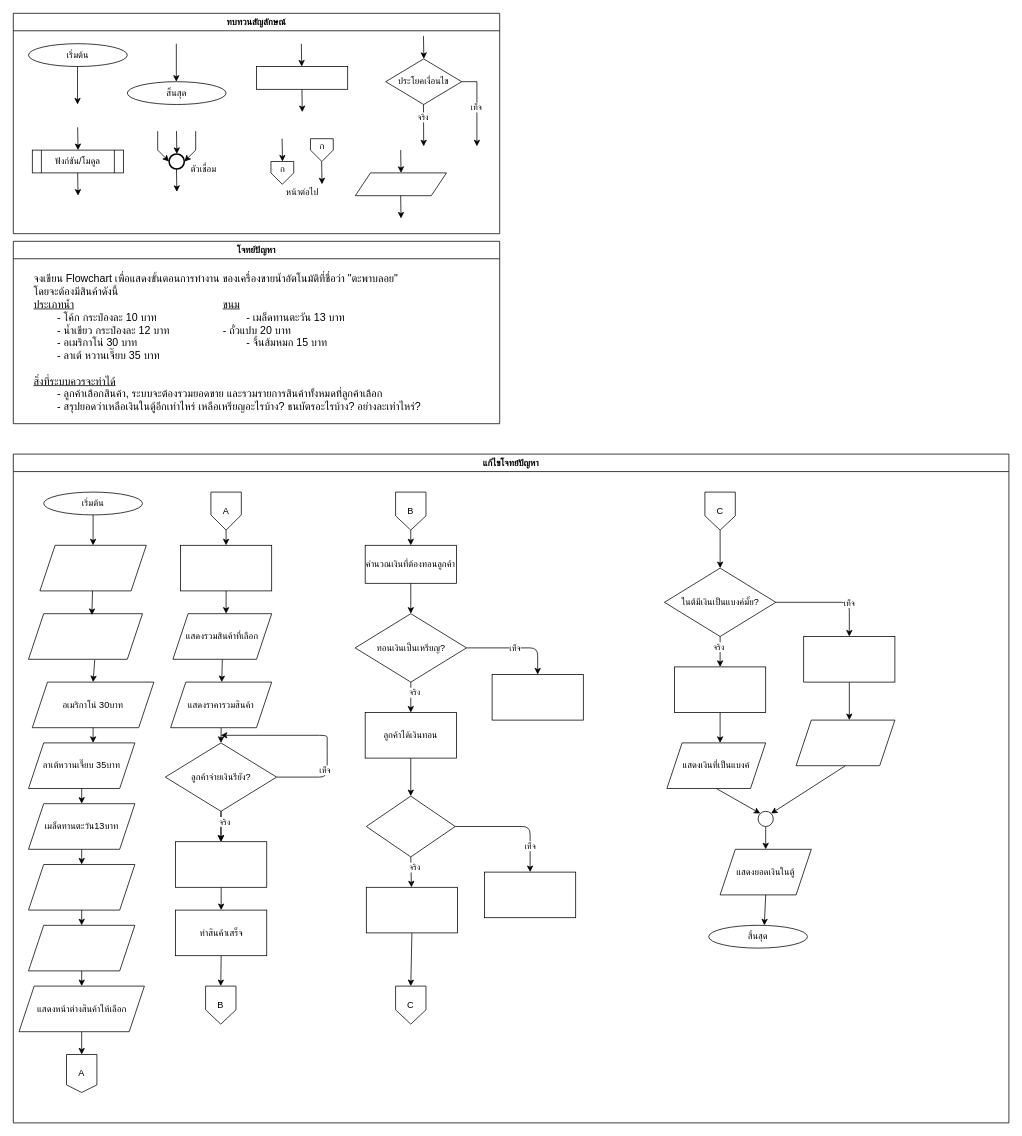
This 1022x1136 diagram has some shape labels left out. Here are the shapes that lost their labels. From the top down, the centre of each, then its label:
the point at 302,77: กระบวนการ
the point at 400,184: แสดงผล/รับค่า
the point at 92,568: โค้ก กระป๋องละ10บาท
the point at 226,568: ลูกค้าเลือกสินค้า
the point at 85,636: นํ้าเขียว กระป๋องละ12บาท
the point at 849,659: มีเงินเป็นเหรียญ
the point at 537,697: ลูกค้าได้เงินเป็นแบงค์
the point at 720,689: มีเงินแบงค์
the point at 845,742: แสดงเงินที่เป็นเหรียญ
the point at 410,826: ในตู้มีเงินเหลือมั้ย?
the point at 221,864: เริ่มทำสินค้า
the point at 81,887: ถั่วแปบ 20บาท
the point at 530,894: ตู้ไม่มีเงินเหลือ
the point at 412,910: ในตู้มีเงิน
the point at 81,948: จิ้นส้มหมก15บาท
